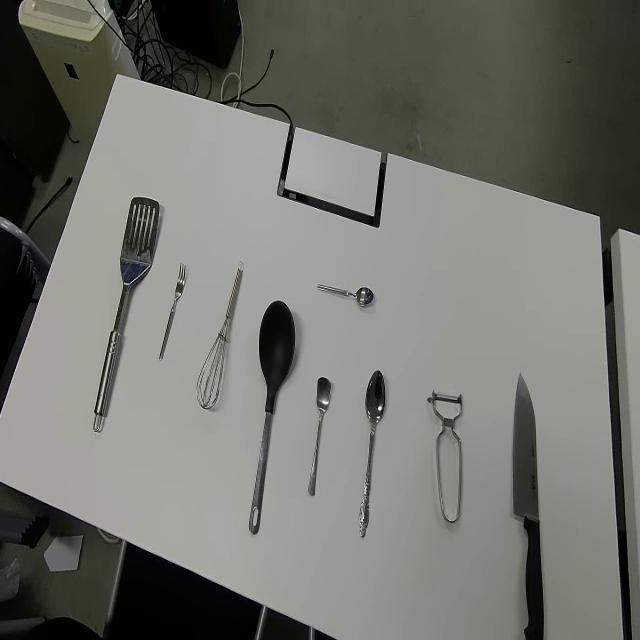Desert-Spoon: (358, 368, 390, 540)
Dinner-Fork: (158, 262, 188, 363)
Kitchen-Knife: (512, 370, 544, 640)
Peeler: (426, 386, 464, 526)
Serving-Spoon: (91, 194, 161, 433), (247, 298, 300, 536)
Tea-Spoon: (307, 373, 336, 499), (315, 281, 375, 314)
Whisk: (196, 258, 247, 410)
